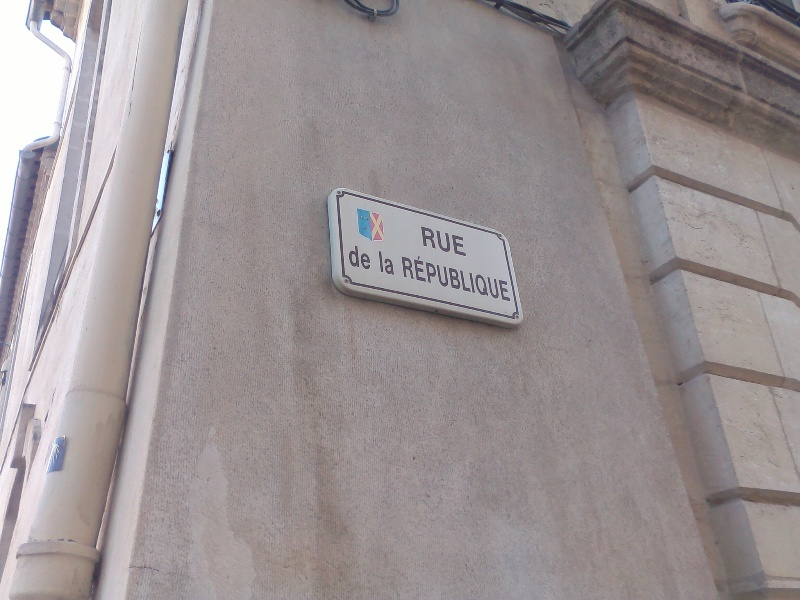text: (401, 252, 416, 303), (417, 252, 432, 303), (433, 252, 448, 303), (449, 252, 464, 303), (465, 252, 480, 303), (481, 252, 496, 303), (497, 252, 512, 303), (433, 226, 448, 258), (449, 226, 464, 258), (353, 242, 368, 272), (421, 226, 432, 258), (385, 251, 395, 276), (347, 242, 352, 272), (379, 251, 384, 276), (369, 242, 373, 272), (465, 226, 468, 258)
